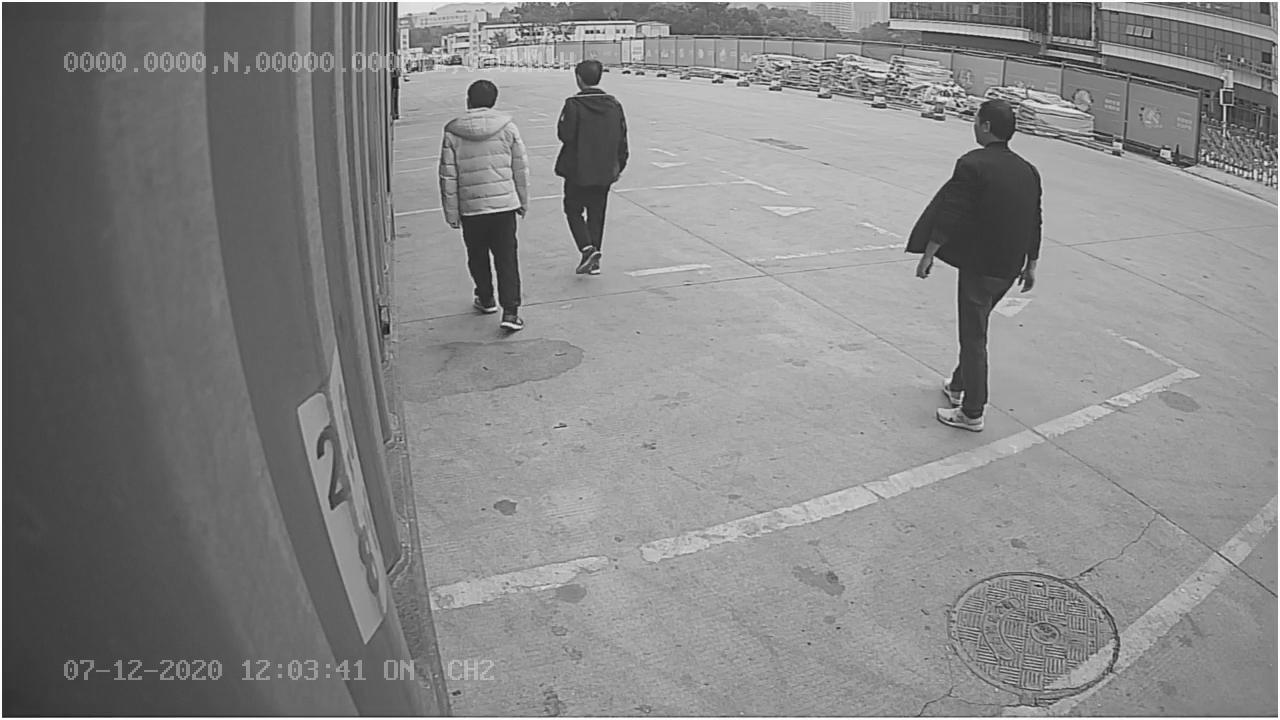person: (916, 79, 1041, 440), (434, 76, 533, 338), (555, 59, 636, 280)
